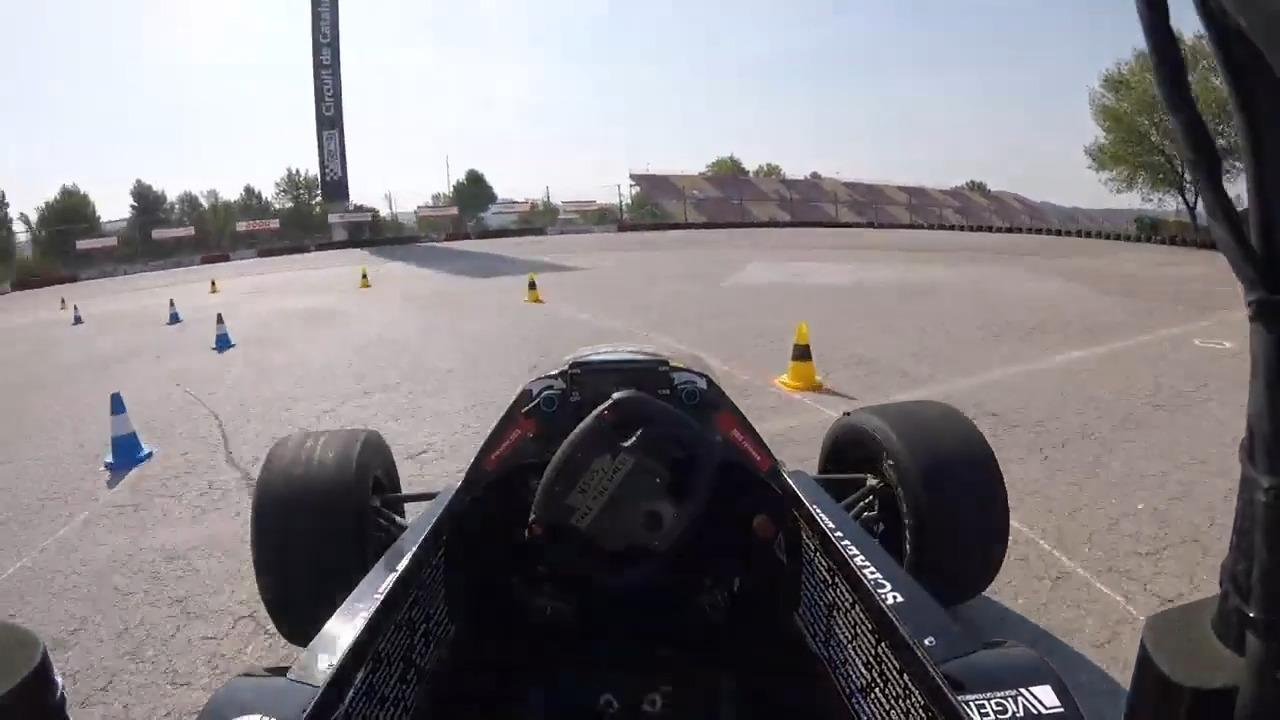blue_cone: (100, 386, 154, 472), (212, 314, 237, 353), (165, 297, 184, 326), (72, 302, 87, 327)
yellow_cone: (776, 323, 827, 393), (522, 275, 549, 303), (357, 265, 376, 289), (208, 276, 222, 295), (55, 295, 70, 311)
